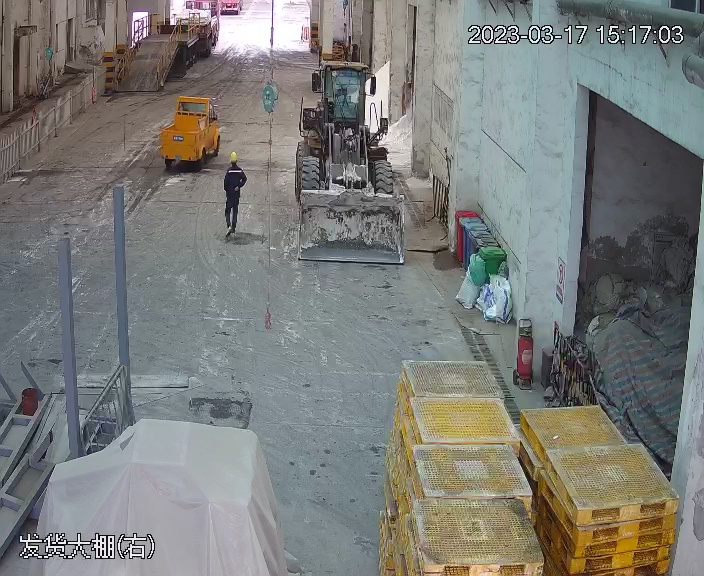head: (224, 150, 246, 176)
helmet: (224, 150, 245, 175), (228, 150, 240, 162)
people: (220, 149, 248, 239)
